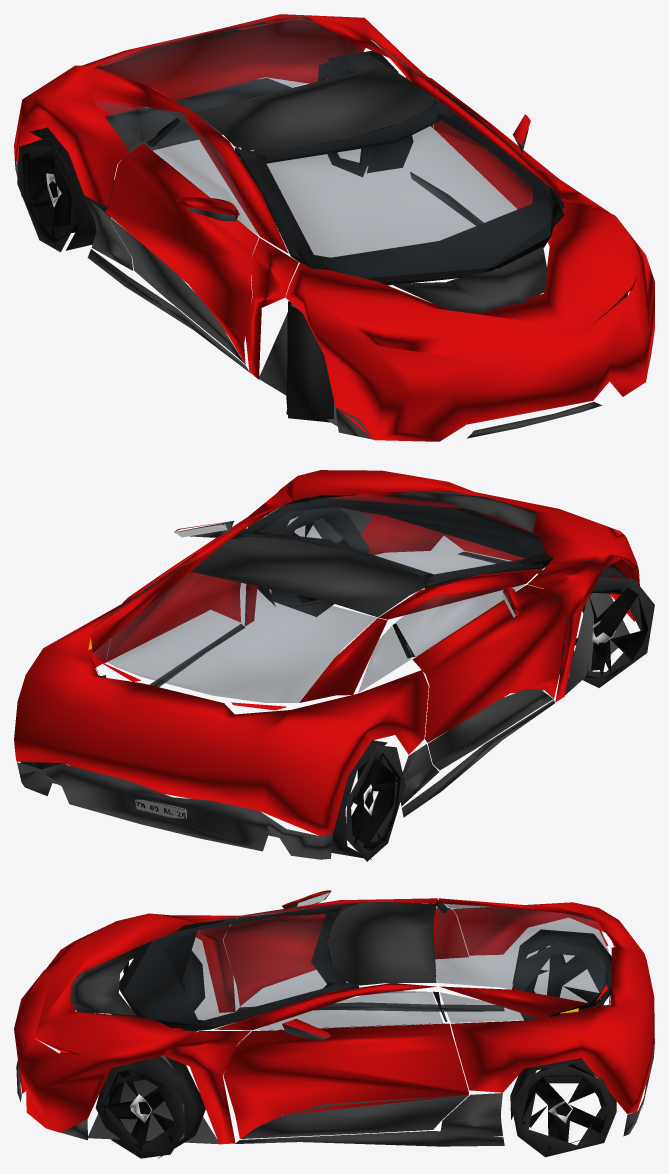
Rendered from car_lod3.glb.
The picture shows the model from 3 angles, top to bottom: view 1: azimuth 30°, elevation 25°; view 2: azimuth 150°, elevation 25°; view 3: azimuth 270°, elevation 25°; orthographic projection. The views are drawn at different scales.
Parts seen in each view (by area): view 1: BodyHood, BodyWindshield, BodyRearPanelsColor1, BodyWindshieldGasket, BodyRearwindow, BodyDoorRColor1, BodyRoofPanel, BodyPanelsColor2, BodyPillars, BodyHoodTopgrill, WheelFrontR, BodyDoorRWindow (+8 smaller); view 2: BodyRearPanelsColor1, BodyRearwindow, BodyWindshield, BodyPanelsColor2, BodyDoorRColor1, BodyHood, BodyRoofPanel, BodyWindshieldGasket, BodyPillars, BodyDoorLColor1, BodyDoorRColor2, BodyDoorRWindow (+9 smaller); view 3: BodyRearPanelsColor1, BodyWindshield, BodyDoorLColor1, BodyHood, BodyRearwindow, BodyPillars, BodyWindshieldGasket, BodyRoofPanel, BodyDoorRColor1, BodyPanelsColor2, BodyDoorLColor2, WheelFrontL (+10 smaller).
Part boxes in pixels (box(x1,y1,x2,y2)): BodyHood: box(285, 199, 654, 441); BodyWindshield: box(235, 98, 550, 277); BodyRearPanelsColor1: box(14, 14, 436, 207); BodyWindshieldGasket: box(234, 98, 564, 285); BodyRearwindow: box(95, 16, 384, 110); BodyDoorRColor1: box(105, 143, 258, 364); BodyRoofPanel: box(194, 65, 434, 150); BodyPanelsColor2: box(15, 78, 654, 439); BodyPillars: box(182, 61, 611, 379); BodyHoodTopgrill: box(390, 246, 546, 312); WheelFrontR: box(288, 301, 333, 422); BodyDoorRWindow: box(148, 121, 257, 234); BodyRearPanelsColor1: box(14, 569, 428, 835); BodyRearwindow: box(94, 572, 376, 702); BodyWindshield: box(231, 495, 543, 586); BodyPanelsColor2: box(17, 551, 554, 859); BodyDoorRColor1: box(412, 585, 566, 742); BodyHood: box(280, 470, 639, 621); BodyRoofPanel: box(191, 537, 425, 617); BodyWindshieldGasket: box(231, 497, 553, 588); BodyPillars: box(180, 488, 603, 702); BodyDoorLColor1: box(104, 517, 253, 663); BodyDoorRColor2: box(428, 689, 553, 770); BodyDoorRWindow: box(396, 585, 524, 656); BodyRearPanelsColor1: box(438, 898, 654, 1113); BodyWindshield: box(123, 903, 358, 1026); BodyDoorLColor1: box(223, 1023, 468, 1138); BodyHood: box(14, 913, 196, 1132); BodyRearwindow: box(434, 904, 608, 1002); BodyPillars: box(163, 898, 437, 1144); BodyWindshieldGasket: box(119, 903, 359, 1030); BodyRoofPanel: box(327, 902, 436, 985); BodyDoorRColor1: box(223, 908, 468, 1006); BodyPanelsColor2: box(16, 1002, 654, 1146); BodyDoorLColor2: box(241, 1095, 468, 1138); WheelFrontL: box(95, 1056, 205, 1158).
Bounding box in the file's own units: 2.53 × 1.13 × 4.35.
13 materials, 1 textured.
